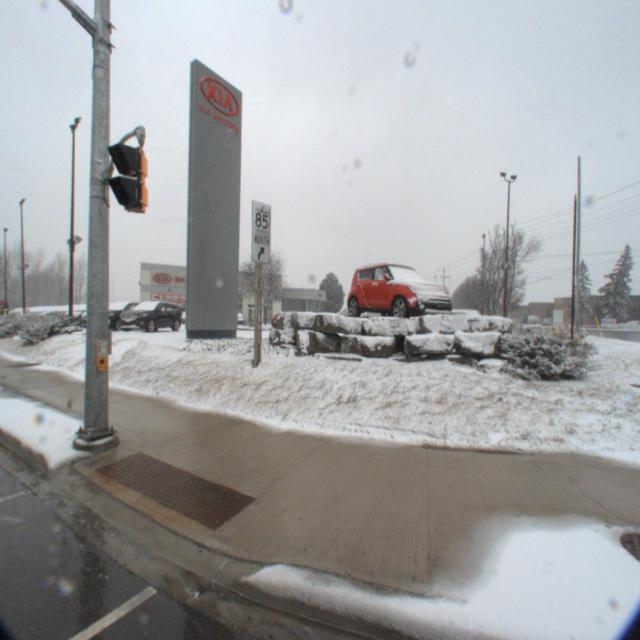Car: (340, 252, 460, 326), (406, 309, 494, 343), (109, 298, 185, 336), (76, 298, 156, 334), (54, 302, 126, 331), (267, 310, 322, 334), (290, 310, 333, 332), (309, 310, 351, 330)
